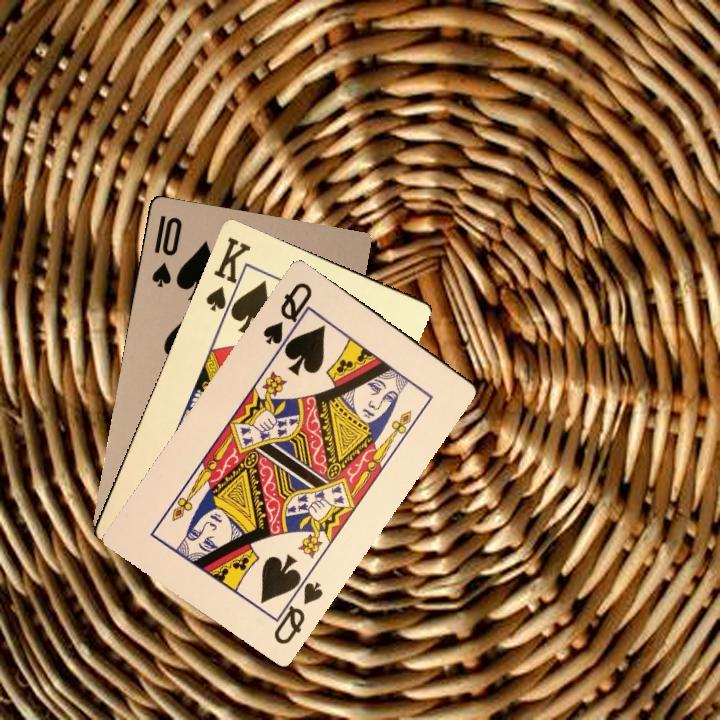10s: (147, 211, 185, 290)
Ks: (201, 232, 254, 317)
Qs: (267, 570, 326, 647), (258, 278, 315, 356)
